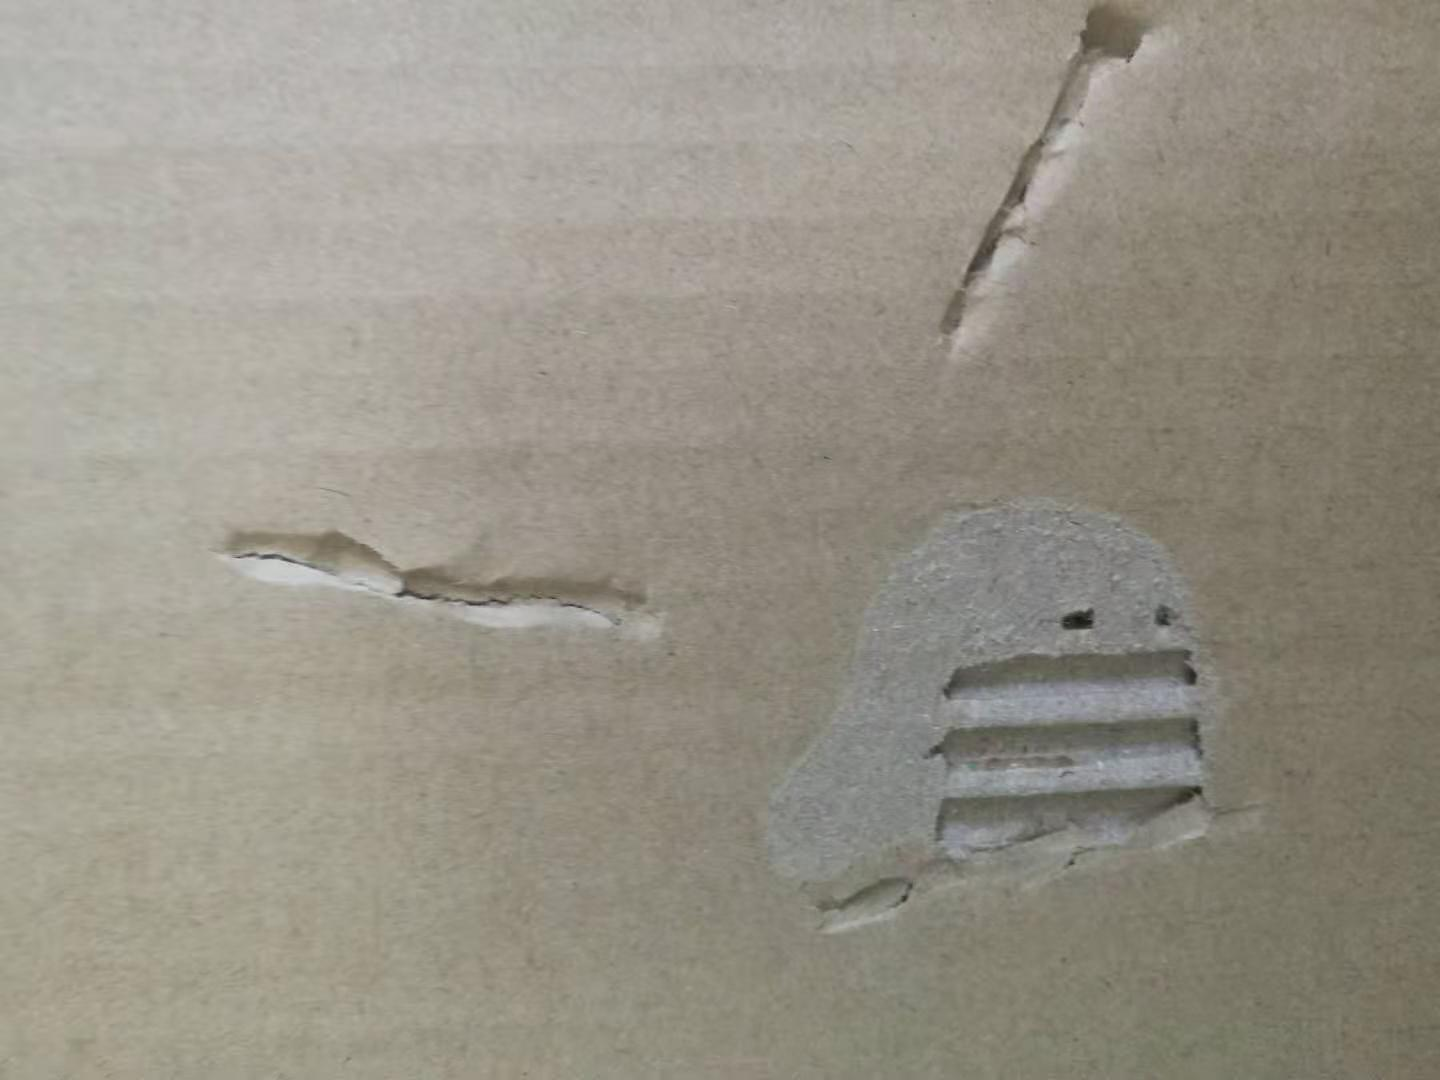defect: (734, 475, 1296, 957), (898, 2, 1210, 381), (188, 471, 700, 684)
